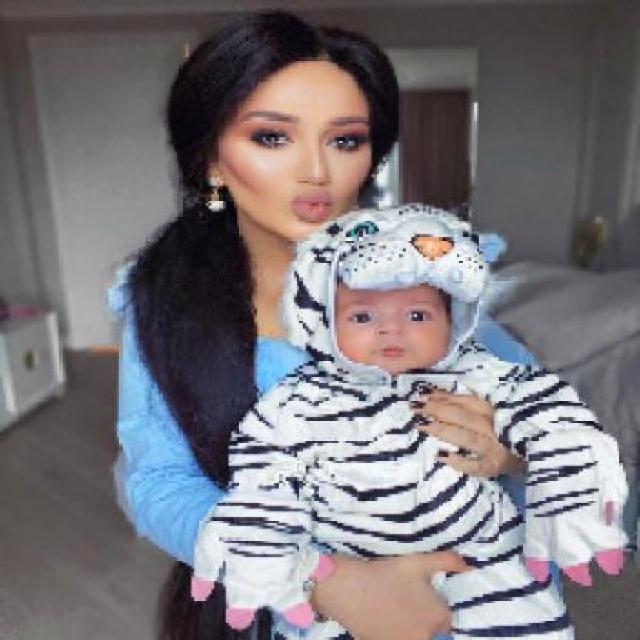child: (186, 202, 632, 638)
